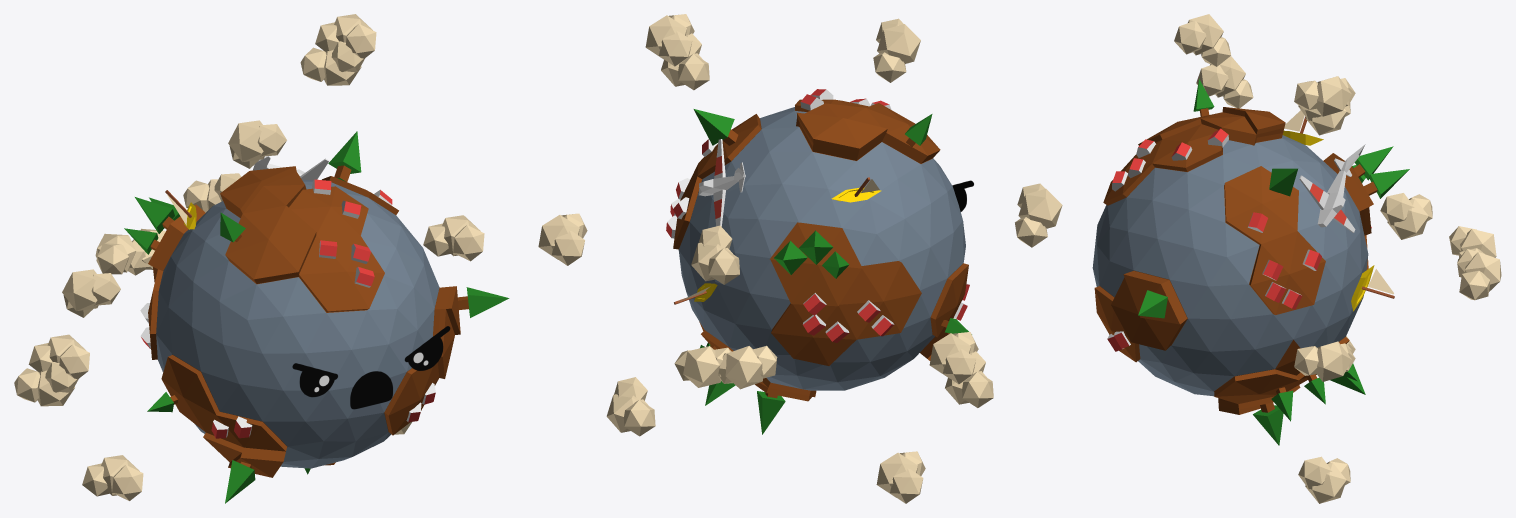
Rendered from anger.glb.
3 views of the same model, side by side, from view 1: azimuth 30°, elevation 25°; view 2: azimuth 150°, elevation 25°; view 3: azimuth 270°, elevation 25° (orthographic). The views are drawn at different scales.
Parts seen in each view (by area): view 1: Icosphere, 001, Icosphere.001, Icosphere.010, Icosphere.007, Icosphere.004, Icosphere.014, Icosphere.011, Icosphere.013, Icosphere.012, Icosphere.003, Icosphere.009 (+5 smaller); view 2: Icosphere, Icosphere.004, Icosphere.007, Icosphere.005, Icosphere.009, Icosphere.003, Icosphere.001, Icosphere.010, Icosphere.012, Icosphere.013, Icosphere.002, Plane.003 (+7 smaller); view 3: Icosphere, Icosphere.004, Icosphere.007, Plane.003, Icosphere.005, Icosphere.009, Icosphere.001, Icosphere.013, Icosphere.002, Icosphere.003, Plane.002, Icosphere.014 (+6 smaller).
Part boxes in pixels (bbox=[...]): Icosphere: bbox=[148, 166, 460, 477]; 001: bbox=[292, 326, 450, 409]; Icosphere.001: bbox=[423, 215, 484, 261]; Icosphere.010: bbox=[82, 455, 143, 500]; Icosphere.007: bbox=[62, 269, 120, 317]; Icosphere.004: bbox=[228, 120, 286, 168]; Icosphere.014: bbox=[300, 41, 364, 85]; Icosphere.011: bbox=[14, 362, 78, 406]; Icosphere.013: bbox=[315, 14, 376, 58]; Icosphere.012: bbox=[28, 334, 89, 379]; Icosphere.003: bbox=[95, 233, 150, 275]; Icosphere.009: bbox=[183, 173, 241, 212]; Icosphere: bbox=[673, 99, 968, 401]; Icosphere.004: bbox=[873, 18, 920, 82]; Icosphere.007: bbox=[1015, 183, 1062, 247]; Icosphere.005: bbox=[606, 377, 655, 436]; Icosphere.009: bbox=[691, 225, 739, 284]; Icosphere.003: bbox=[718, 345, 777, 389]; Icosphere.001: bbox=[538, 213, 587, 265]; Icosphere.010: bbox=[876, 451, 925, 503]; Icosphere.012: bbox=[929, 332, 978, 384]; Icosphere.013: bbox=[645, 14, 694, 66]; Icosphere.002: bbox=[674, 346, 731, 387]; Plane.003: bbox=[698, 139, 745, 226]; Icosphere: bbox=[1092, 107, 1373, 414]; Icosphere.004: bbox=[1174, 14, 1231, 66]; Icosphere.007: bbox=[1196, 56, 1253, 108]; Plane.003: bbox=[1299, 144, 1365, 232]; Icosphere.005: bbox=[1298, 456, 1350, 503]; Icosphere.009: bbox=[1380, 193, 1432, 239]; Icosphere.001: bbox=[1294, 341, 1355, 381]; Icosphere.013: bbox=[1294, 76, 1355, 116]; Icosphere.002: bbox=[1457, 249, 1501, 300]; Icosphere.003: bbox=[1449, 226, 1496, 258]; Plane.002: bbox=[1351, 265, 1394, 311]; Icosphere.014: bbox=[1298, 103, 1350, 135].
Bounding box in the file's own units: 3.83 × 3.34 × 3.08.
Materials: 19 (1 with a texture image).
